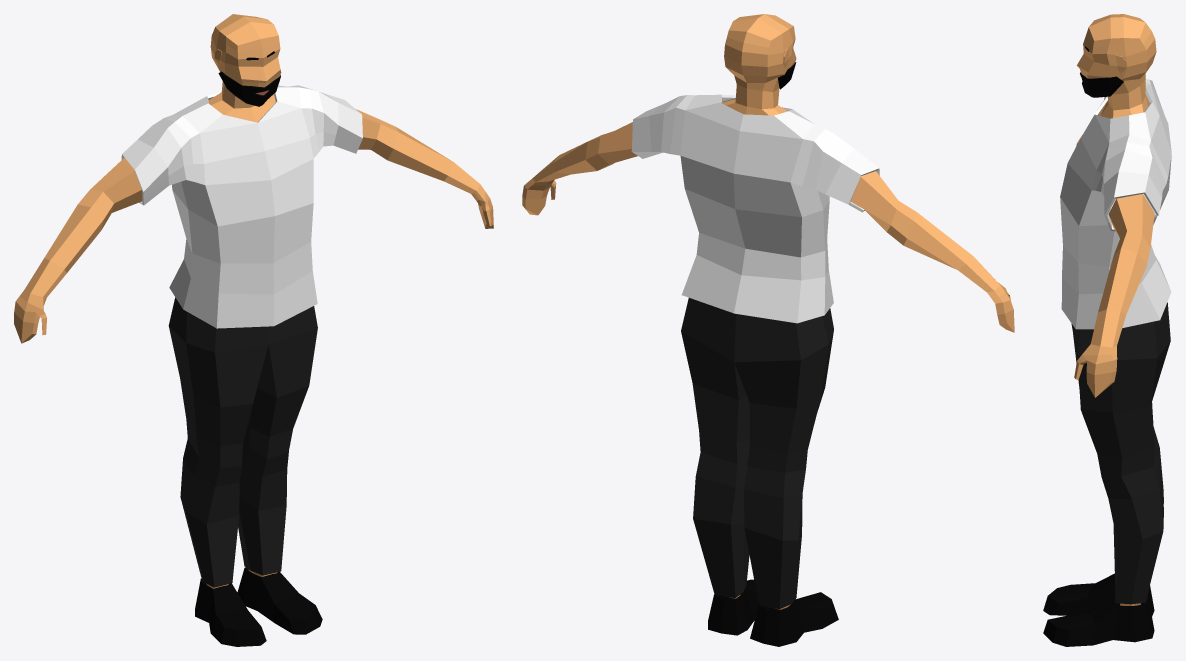
The model's file is Npc2.fbx.
3 renders of one model, left to right at view 1: azimuth 30°, elevation 25°; view 2: azimuth 150°, elevation 25°; view 3: azimuth 270°, elevation 25°, orthographic. The views are drawn at different scales.
Visible parts, largest first — view 1: Body.001; view 2: Body.001; view 3: Body.001.
Part boxes in pixels (box(x1,y1,x2,y2)): Body.001: box(14, 14, 493, 646); Body.001: box(522, 14, 1014, 646); Body.001: box(1043, 14, 1171, 646).
Size of the model in its own units: 537 by 646 by 124.
